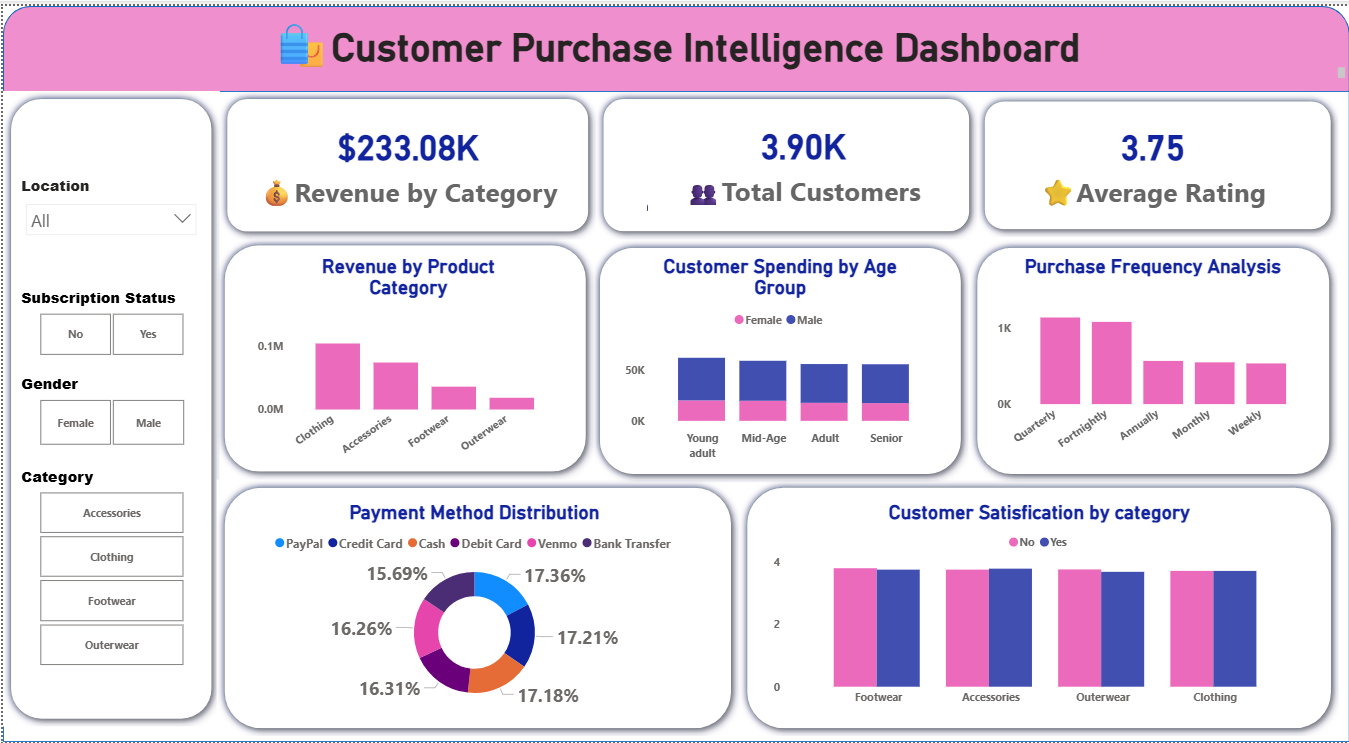

Layout of this report page (visuals, bound fields, positions):
{"tool":"powerbi","page":{"name":"Page 1","canvas":[1500,820],"ordinal":0},"visuals":[{"type":"shape","box":[241.5,260.7,356.8,222.3],"z":0},{"type":"shape","box":[0,0,1500.3,123.8],"z":1000},{"type":"shape","box":[0,94.9,1500.3,725.2],"z":2000},{"type":"textbox","title":"🛍️Customer Purchase Intelligence Dashboard","box":[0,9.6,1500.3,75.6],"z":3000},{"type":"shape","box":[0,95.1,241.3,708.3],"z":4000},{"type":"shape","box":[241.2,94.9,420,165.6],"z":5000},{"type":"shape","box":[659.9,94.5,425.3,165.4],"z":6000},{"type":"shape","box":[238,258.2,420.2,270],"z":7000},{"type":"clusteredColumnChart","title":"Revenue by Product Category","fields":{"Category":["customer_shopping.category"],"Y":["Sum(customer_shopping.purchase_amount)"]},"box":[278.2,276.8,346.3,235.6],"z":8000},{"type":"shape","box":[1085.2,97.9,403.4,160.3],"z":9000},{"type":"shape","box":[238.6,527.4,582,286],"z":10000},{"type":"shape","box":[656.5,259.9,420.2,270],"z":11000},{"type":"shape","box":[1076.7,259.9,410.1,270],"z":12000},{"type":"columnChart","title":"Customer Spending by Age Group","fields":{"Category":["customer_shopping.age_group"],"Y":["Sum(customer_shopping.purchase_amount)"],"Series":["customer_shopping.gender"]},"box":[688.6,276.8,356.1,236.3],"z":13000},{"type":"card","fields":{"Values":["customer_shopping.total revenue"]},"box":[278.5,111.4,346,124.9],"z":14000},{"type":"card","fields":{"Values":["customer_shopping.👥Total Customers"]},"box":[698.7,111.4,346,124.9],"z":15000},{"type":"card","fields":{"Values":["customer_shopping.⭐Average Rating"]},"box":[1108.8,111.4,346,124.9],"z":16000},{"type":"card","fields":{"Values":["customer_shopping.👥Total Customers"]},"box":[718.2,110.7,346.3,124.9],"z":17000},{"type":"clusteredColumnChart","title":"Purchase Frequency Analysis","fields":{"Category":["customer_shopping.frequency_of_purchases"],"Y":["Count(customer_shopping.customer_id)"]},"box":[1102.9,276.8,356.3,235.6],"z":18000},{"type":"shape","box":[820.6,527.4,668.2,286],"z":19000},{"type":"donutChart","title":"Payment Method Distribution","fields":{"Category":["customer_shopping.payment_method"],"Y":["Count(customer_shopping.customer_id)"]},"box":[264.4,551.8,521.7,237.1],"z":20000},{"type":"slicer","title":"Subscription Status","fields":{"Values":["customer_shopping.subscription_status"]},"box":[15.8,313.3,209.8,81.9],"z":21000},{"type":"slicer","title":"Gender","fields":{"Values":["customer_shopping.gender"]},"box":[15.3,409.4,210.3,86.3],"z":22000},{"type":"slicer","title":"Category","fields":{"Values":["customer_shopping.category"]},"box":[15.8,513,209.8,228.5],"z":23000},{"type":"slicer","title":"Location","fields":{"Values":["customer_shopping.location"]},"box":[15.8,188.3,209.8,89.1],"z":24000},{"type":"clusteredColumnChart","title":"Customer Satisfication by category","fields":{"Category":["customer_shopping.category"],"Y":["Avg(customer_shopping.review_rating)"],"Series":["customer_shopping.subscription_status"]},"box":[853.6,551.8,602.1,237.1],"z":25000}]}

Visuals, with their boxes in screenshot pixels (x1, y1, x2, y2), scaled from the page's 1500x820 canvas onto the 1349x743 screenshot:
shape: pyautogui.locateOnScreen(217, 236, 538, 438)
shape: pyautogui.locateOnScreen(0, 0, 1348, 112)
shape: pyautogui.locateOnScreen(0, 86, 1348, 742)
"🛍️Customer Purchase Intelligence Dashboard" textbox: pyautogui.locateOnScreen(0, 9, 1348, 77)
shape: pyautogui.locateOnScreen(0, 86, 217, 728)
shape: pyautogui.locateOnScreen(217, 86, 595, 236)
shape: pyautogui.locateOnScreen(593, 86, 976, 235)
shape: pyautogui.locateOnScreen(214, 234, 592, 479)
"Revenue by Product Category" clusteredColumnChart: pyautogui.locateOnScreen(250, 251, 562, 464)
shape: pyautogui.locateOnScreen(976, 89, 1339, 234)
shape: pyautogui.locateOnScreen(215, 478, 738, 737)
shape: pyautogui.locateOnScreen(590, 235, 968, 480)
shape: pyautogui.locateOnScreen(968, 235, 1337, 480)
"Customer Spending by Age Group" columnChart: pyautogui.locateOnScreen(619, 251, 940, 465)
card - customer_shopping.total revenue: pyautogui.locateOnScreen(250, 101, 562, 214)
card - customer_shopping.👥Total Customers: pyautogui.locateOnScreen(628, 101, 940, 214)
card - customer_shopping.⭐Average Rating: pyautogui.locateOnScreen(997, 101, 1308, 214)
card - customer_shopping.👥Total Customers: pyautogui.locateOnScreen(646, 100, 957, 213)
"Purchase Frequency Analysis" clusteredColumnChart: pyautogui.locateOnScreen(992, 251, 1312, 464)
shape: pyautogui.locateOnScreen(738, 478, 1339, 737)
"Payment Method Distribution" donutChart: pyautogui.locateOnScreen(238, 500, 707, 715)
"Subscription Status" slicer: pyautogui.locateOnScreen(14, 284, 203, 358)
"Gender" slicer: pyautogui.locateOnScreen(14, 371, 203, 449)
"Category" slicer: pyautogui.locateOnScreen(14, 465, 203, 672)
"Location" slicer: pyautogui.locateOnScreen(14, 171, 203, 251)
"Customer Satisfication by category" clusteredColumnChart: pyautogui.locateOnScreen(768, 500, 1309, 715)
